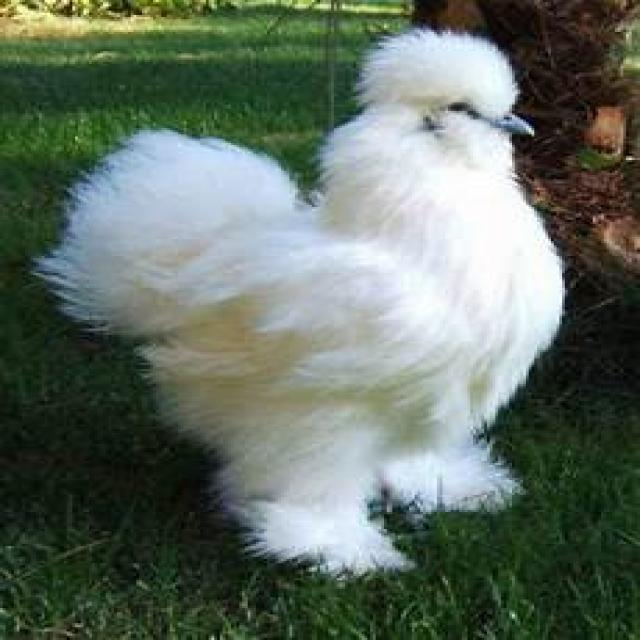hen: (36, 30, 563, 572)
